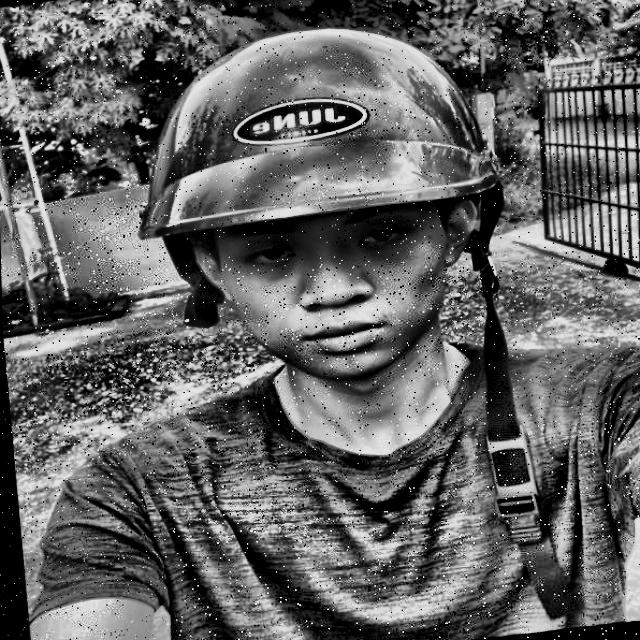Helmet: (109, 0, 548, 397)
